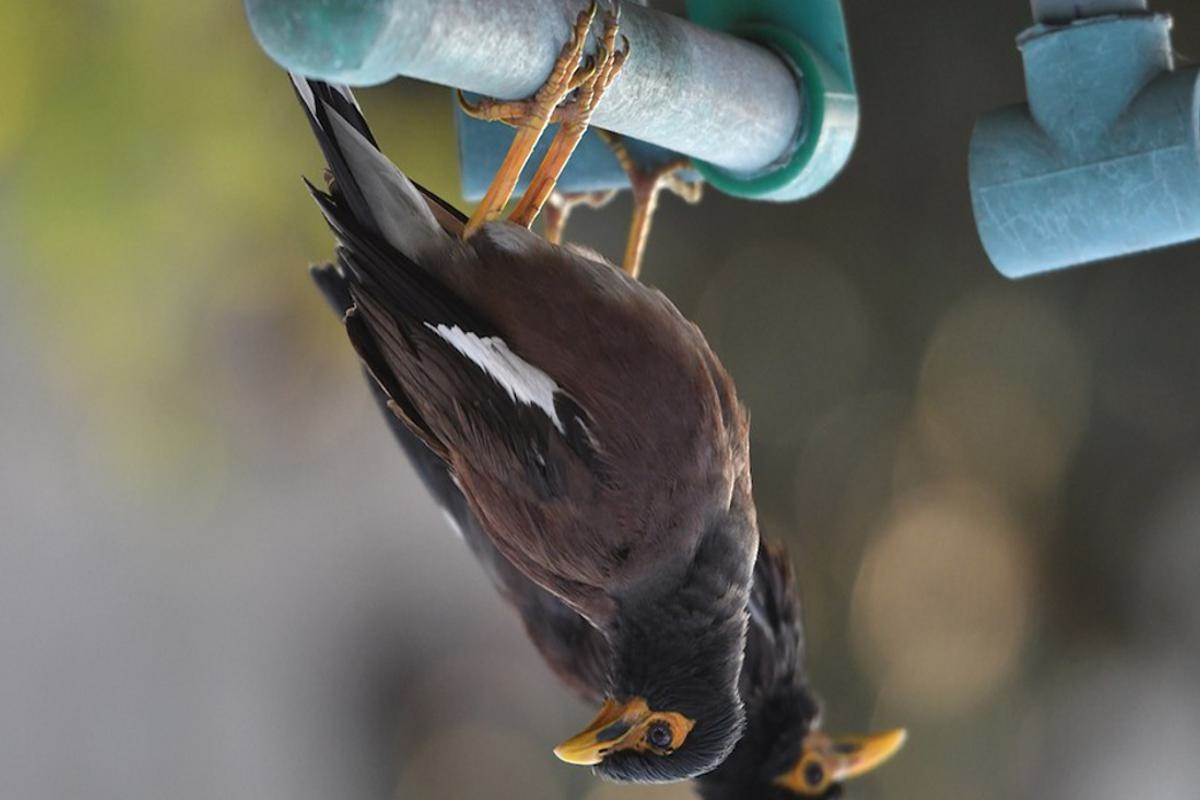myna: (254, 65, 751, 790)
